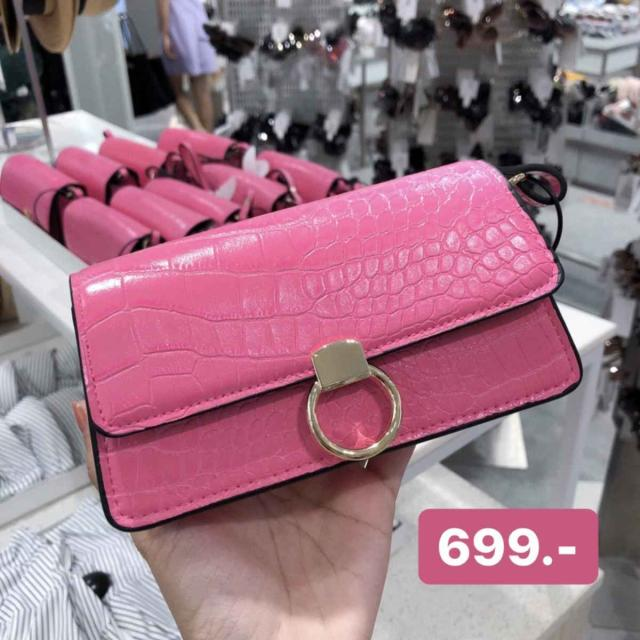Handbag: (65, 160, 612, 534)
